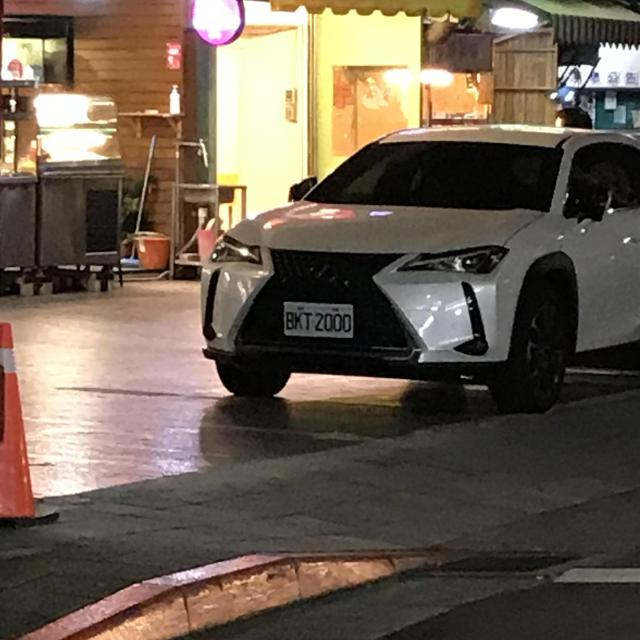W: (280, 295, 362, 347)
